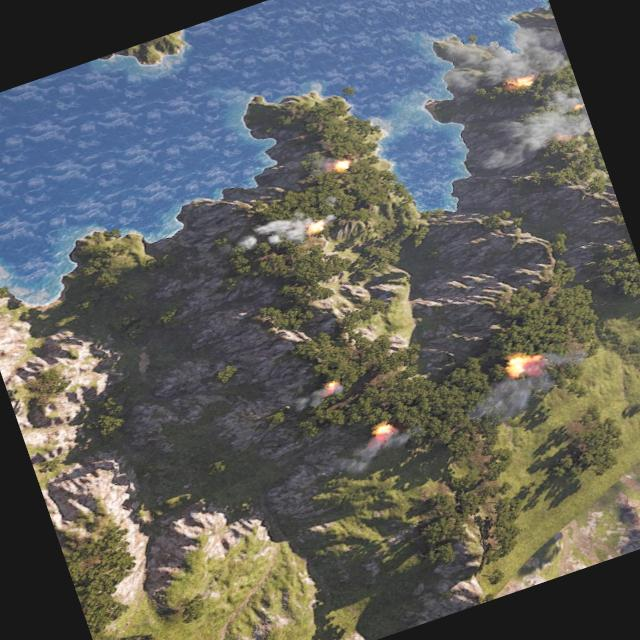fire: (504, 350, 536, 378), (370, 421, 396, 441), (510, 74, 536, 92), (305, 218, 326, 234), (552, 130, 570, 144), (332, 158, 349, 172), (324, 380, 339, 392), (572, 102, 585, 112)
smoke: (439, 19, 572, 106), (224, 197, 342, 261), (460, 363, 562, 430), (324, 421, 430, 485), (502, 85, 594, 158), (286, 377, 348, 414), (316, 155, 338, 175)
